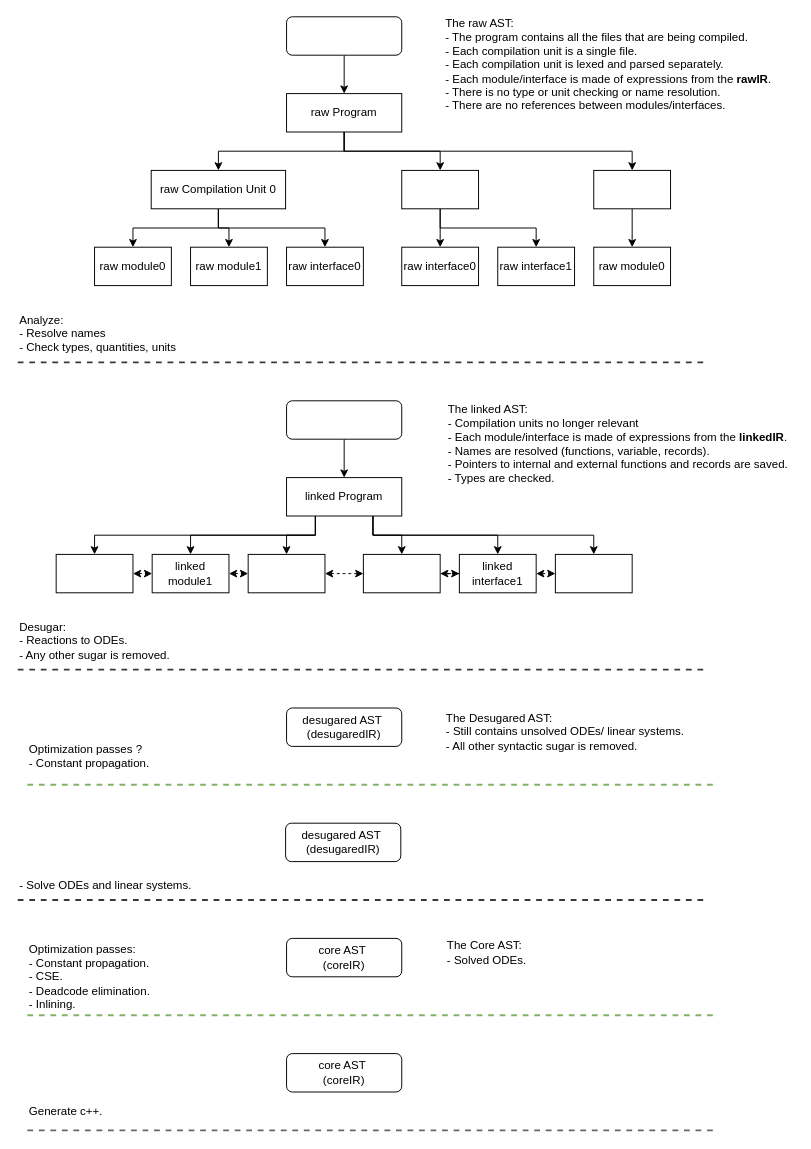
The diagram is 811 pixels wide and 1149 high, and some of its shapes have lost their labels. The centre of each missing label's shape, as x and y in pixels:
"linked AST (linkedIR)" goes at pixel 344 419.
"linked interface0" goes at pixel 401 573.
"linked interface2" goes at pixel 593 573.
"linked module0" goes at pixel 94 573.
"linked module2" goes at pixel 286 573.
"raw AST (rawIR)" goes at pixel 344 35.
"raw CU1" goes at pixel 440 189.
"raw CU2" goes at pixel 632 189.
